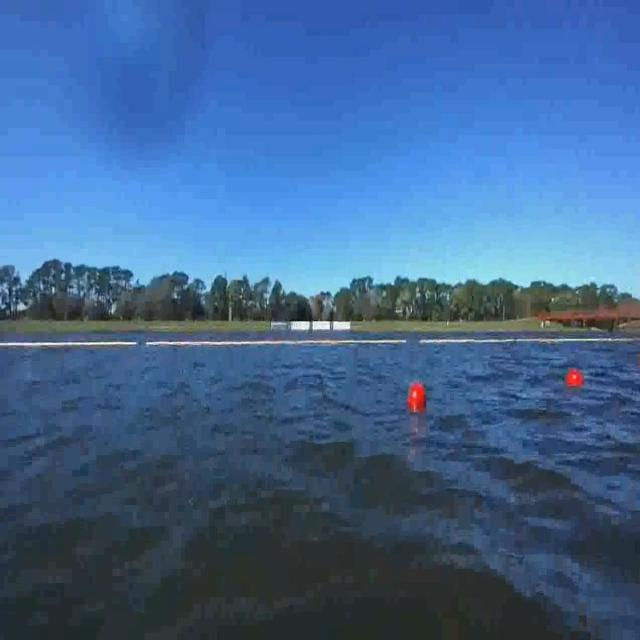red-buoy: (409, 383, 427, 416), (566, 369, 584, 388)
